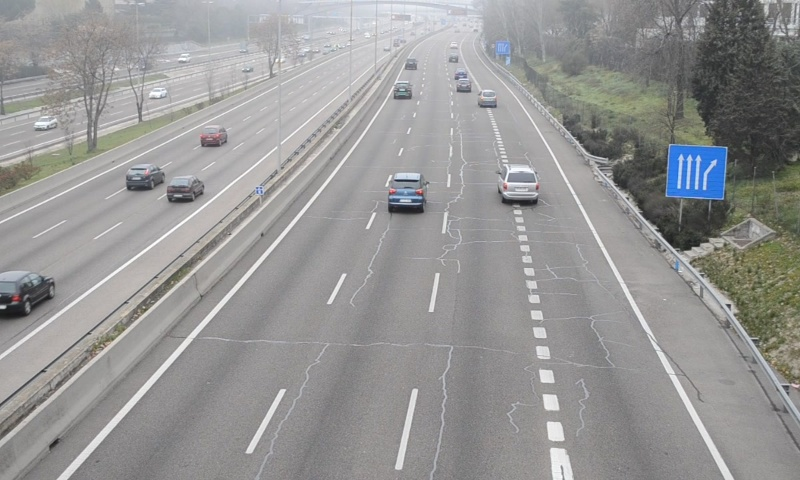car: (500, 163, 539, 202), (387, 174, 426, 209), (392, 80, 412, 99), (478, 88, 496, 107)
